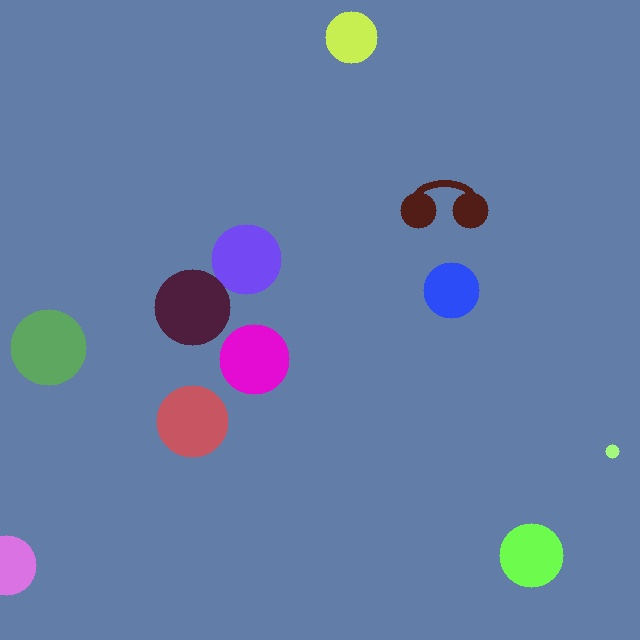over_ear: (396, 171, 492, 232)
